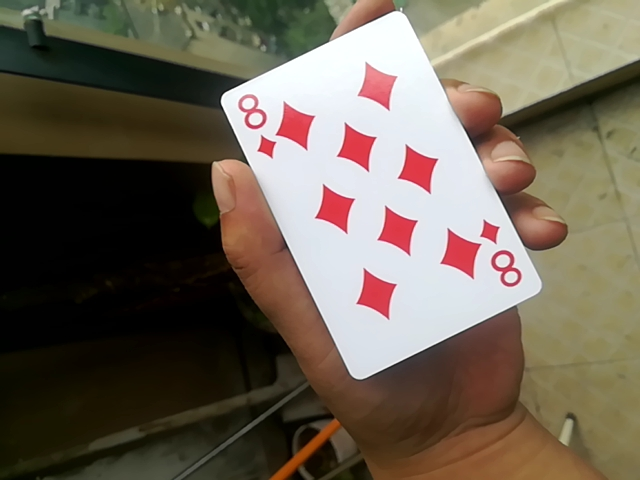fk 8: (215, 11, 540, 383)
